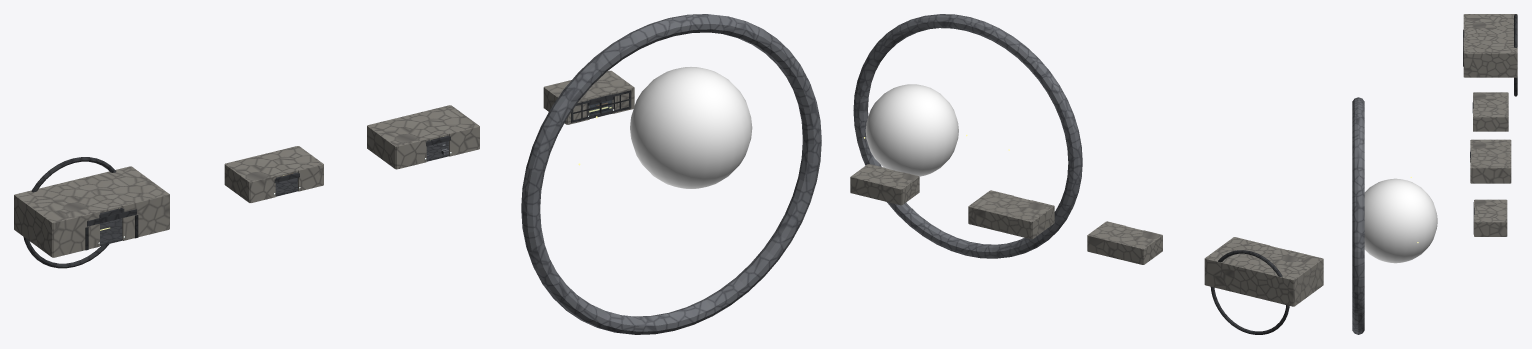
The model's file is great-station-interior-pilot.glb.
3 views of the same model, side by side, from view 1: azimuth 30°, elevation 25°; view 2: azimuth 150°, elevation 25°; view 3: azimuth 270°, elevation 25° (orthographic). The views are drawn at different scales.
Parts seen in each view (by area): view 1: observation, view_planet, hangar, ceiling_hangar, fleet, ceiling_fleet, commission, ceiling_commission, rim_arc, ceiling_observation, viewport_lintel; view 2: observation, view_planet, hangar, ceiling_hangar, fleet, commission, ceiling_fleet, ceiling_commission, ceiling_observation, rim_arc; view 3: view_planet, observation, ceiling_hangar, hangar, ceiling_fleet, ceiling_commission, fleet, ceiling_observation, commission, rim_arc.
Part boxes in pixels (<box>): observation: <box>521,14,821,334</box>; view_planet: <box>630,67,752,188</box>; hangar: <box>14,166,169,257</box>; ceiling_hangar: <box>15,167,168,222</box>; fleet: <box>367,105,479,169</box>; ceiling_fleet: <box>368,106,478,146</box>; commission: <box>224,146,323,202</box>; ceiling_commission: <box>226,147,321,181</box>; rim_arc: <box>23,157,116,268</box>; ceiling_observation: <box>545,71,632,100</box>; viewport_lintel: <box>571,90,631,122</box>; observation: <box>850,14,1082,258</box>; view_planet: <box>865,84,958,176</box>; hangar: <box>1204,237,1323,306</box>; ceiling_hangar: <box>1206,237,1322,279</box>; fleet: <box>968,190,1054,239</box>; commission: <box>1087,221,1162,264</box>; ceiling_fleet: <box>970,191,1052,221</box>; ceiling_commission: <box>1089,222,1161,248</box>; ceiling_observation: <box>851,164,918,189</box>; rim_arc: <box>1210,250,1289,334</box>; view_planet: <box>1364,178,1437,263</box>; observation: <box>1352,97,1507,334</box>; ceiling_hangar: <box>1464,14,1516,52</box>; hangar: <box>1463,14,1517,77</box>; ceiling_fleet: <box>1471,140,1510,167</box>; ceiling_commission: <box>1473,92,1507,116</box>; fleet: <box>1470,139,1511,183</box>; ceiling_observation: <box>1474,200,1506,222</box>; commission: <box>1473,92,1508,131</box>; rim_arc: <box>1514,14,1517,96</box>.
Bounding box in the file's own units: 418 × 180 × 125.
Materials: 25 (20 with a texture image).
